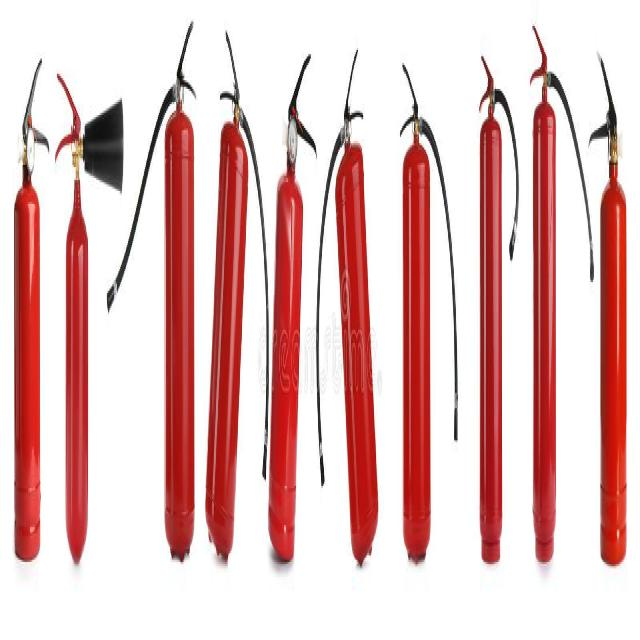fire_extinguisher: (104, 9, 200, 568), (527, 14, 595, 570), (53, 57, 126, 570), (203, 19, 270, 570), (314, 38, 380, 569), (398, 52, 460, 571), (266, 46, 317, 568), (476, 40, 520, 565), (587, 43, 628, 573), (10, 52, 50, 568)
